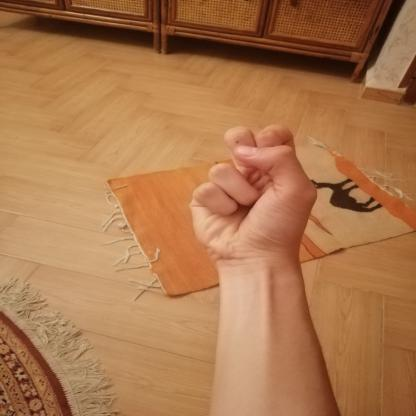QAAF: (174, 115, 330, 280)
